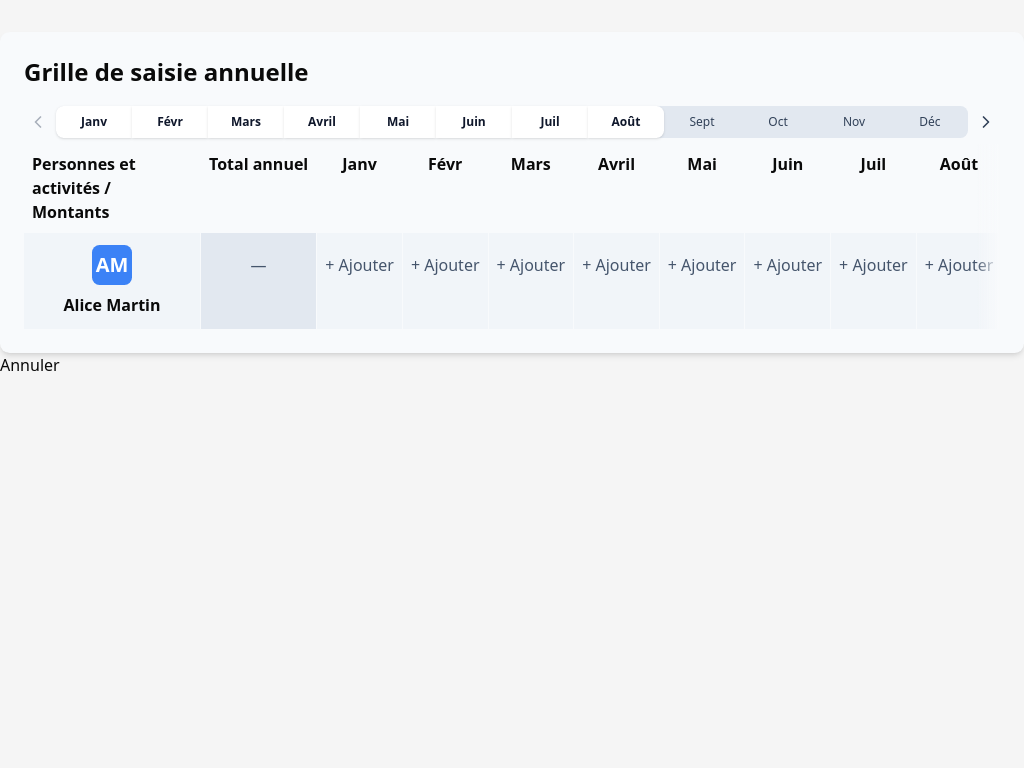
Scenario: MonthlyGrid, sur plusieurs années › au-delà de quatre autres années, coche toutes les années, aucune, les précédentes ou les suivantes d'un clic
The width and height of the screenshot is (1024, 768).
Click the button with aria-label "Flux de mars : Alice Martin".
click(531, 281)  # box [488, 233, 573, 329]
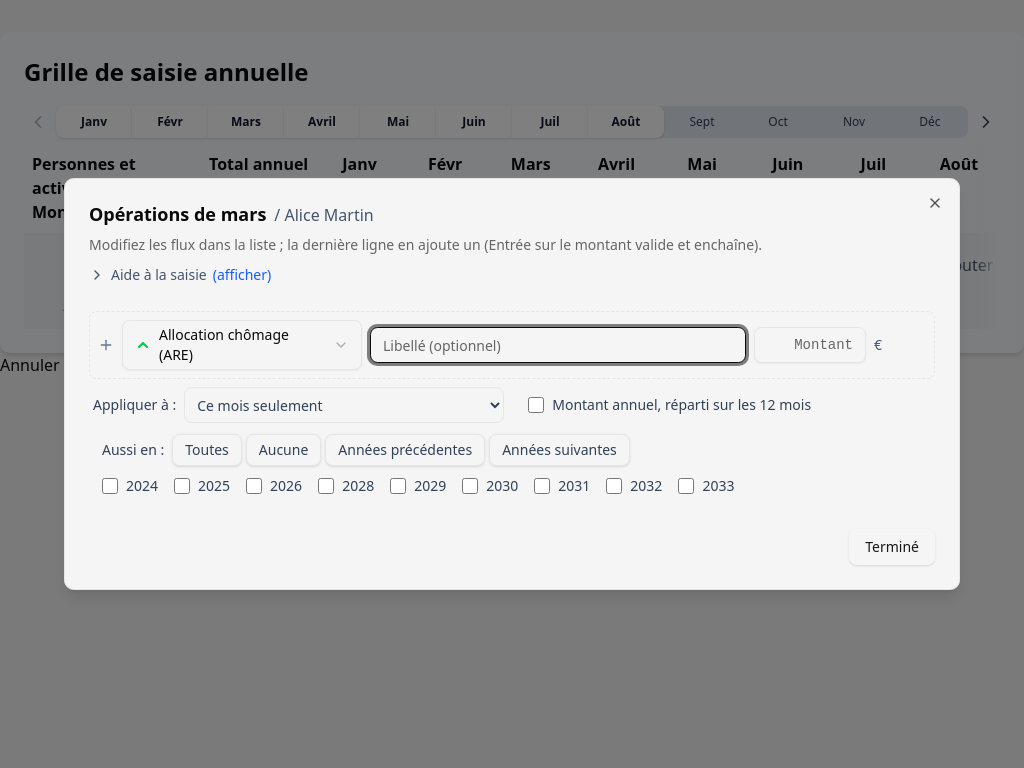
Click the button with aria-label "Cocher toutes les années".
click(207, 450)  # box [172, 434, 242, 466]
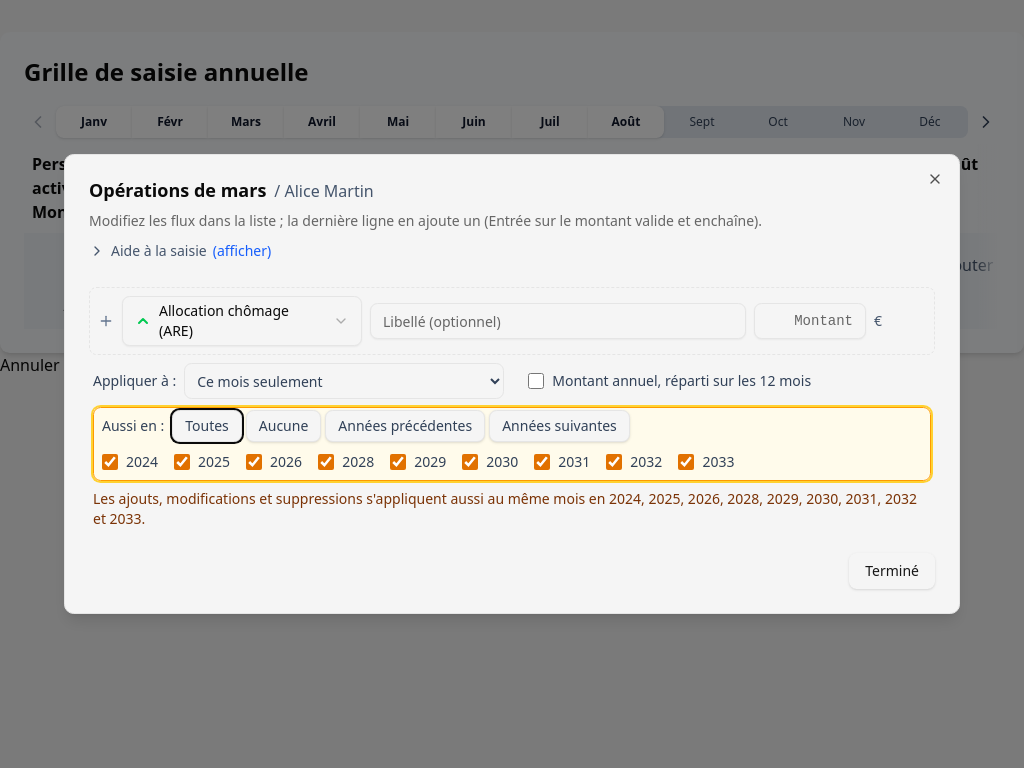
Expected: the text "s'appliquent aussi au même mois en 2024, 2025, 2026, 2028" is shown, [93, 489, 917, 528]
Click the button with aria-label "Cocher les années précédentes".
click(405, 426)  # box [325, 410, 485, 442]
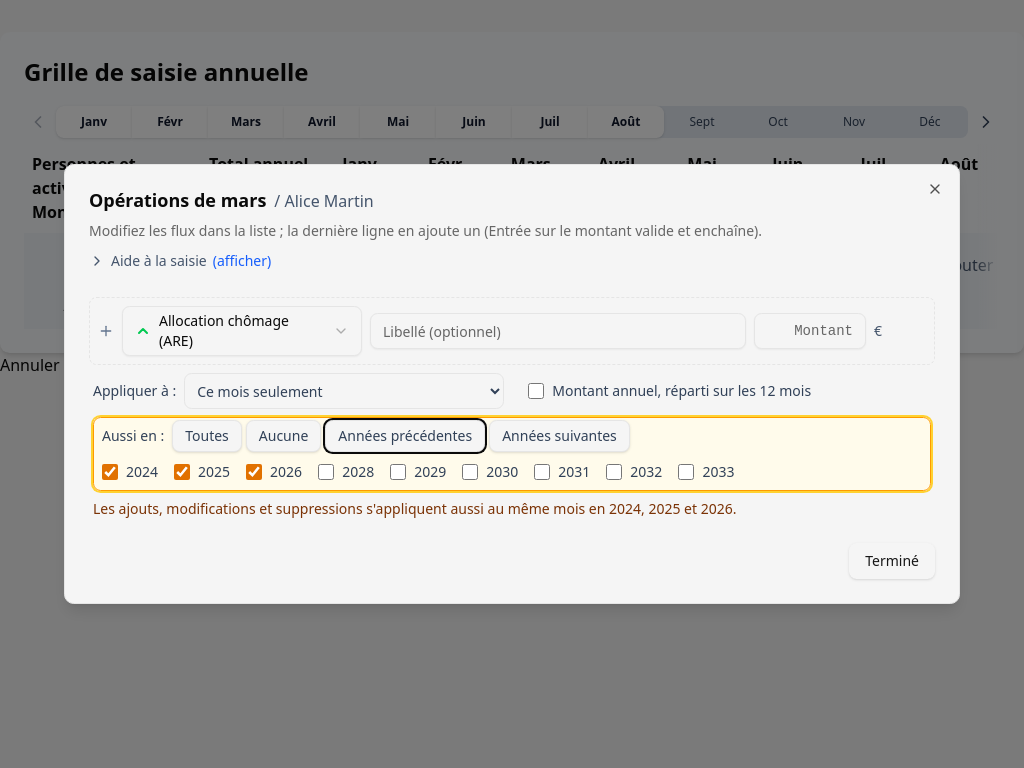
Click the button with aria-label "Cocher les années suivantes".
click(560, 436)  # box [489, 420, 630, 452]
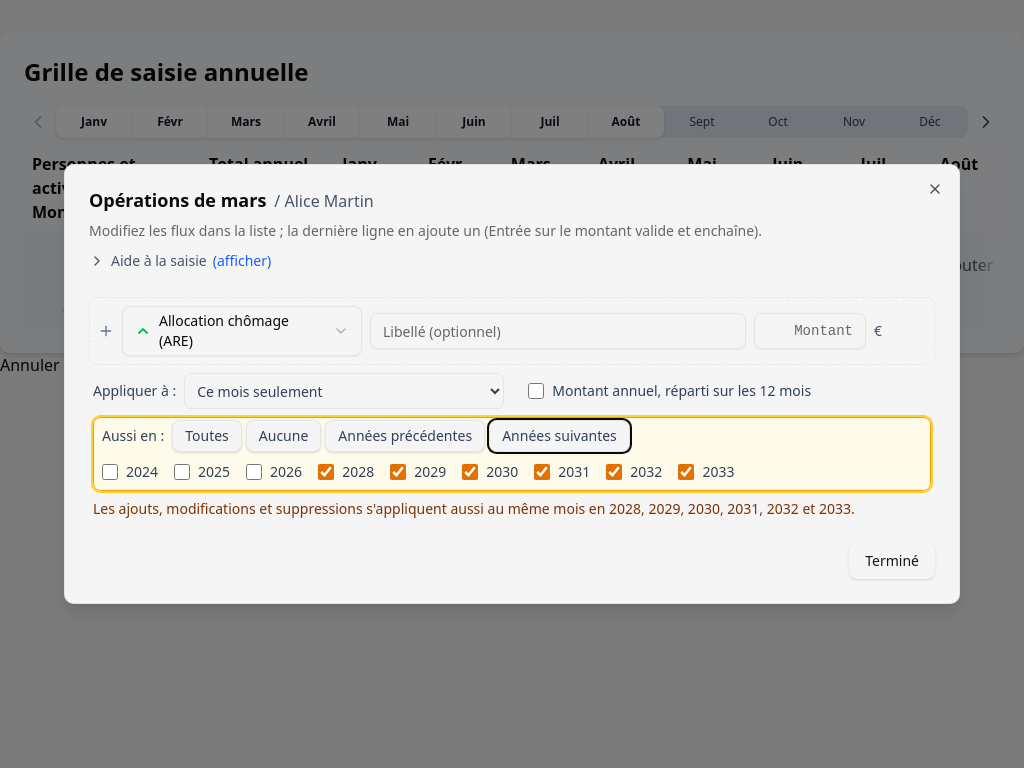
// Une case se décoche toujours une à une.
Click the checkbox labelled "2030".
click(470, 472)  # box [462, 464, 478, 480]
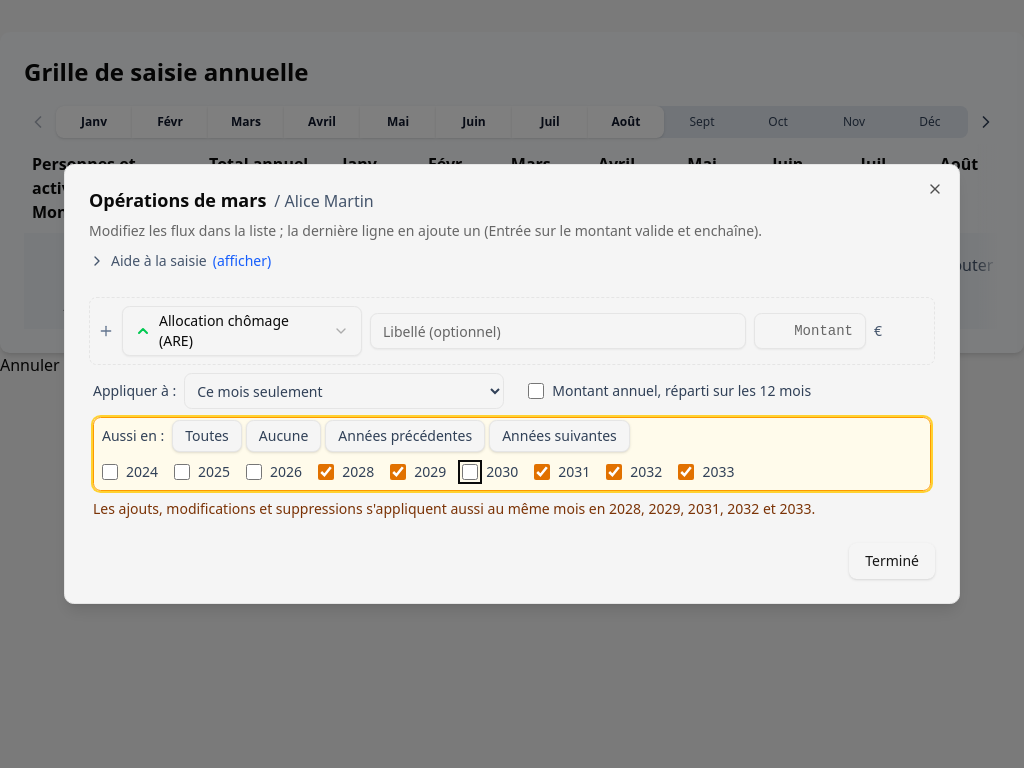
Click the button with aria-label "Ne cocher aucune année".
click(284, 436)  # box [246, 420, 321, 452]
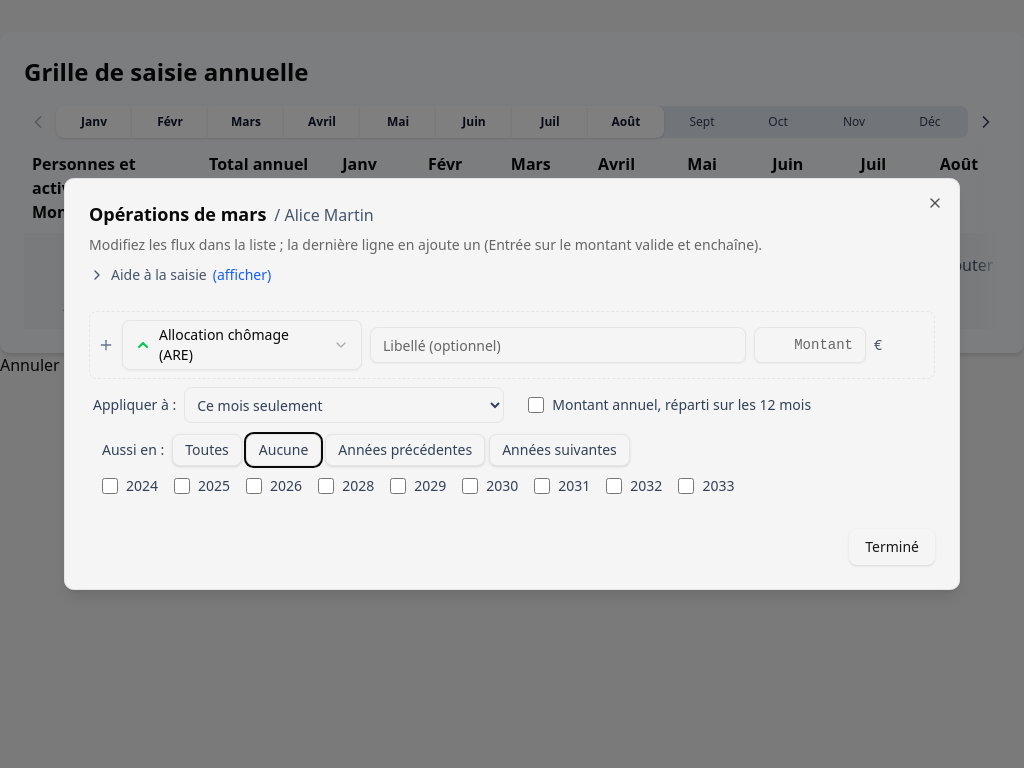
Expected: the text "s'appliquent aussi" is gone
